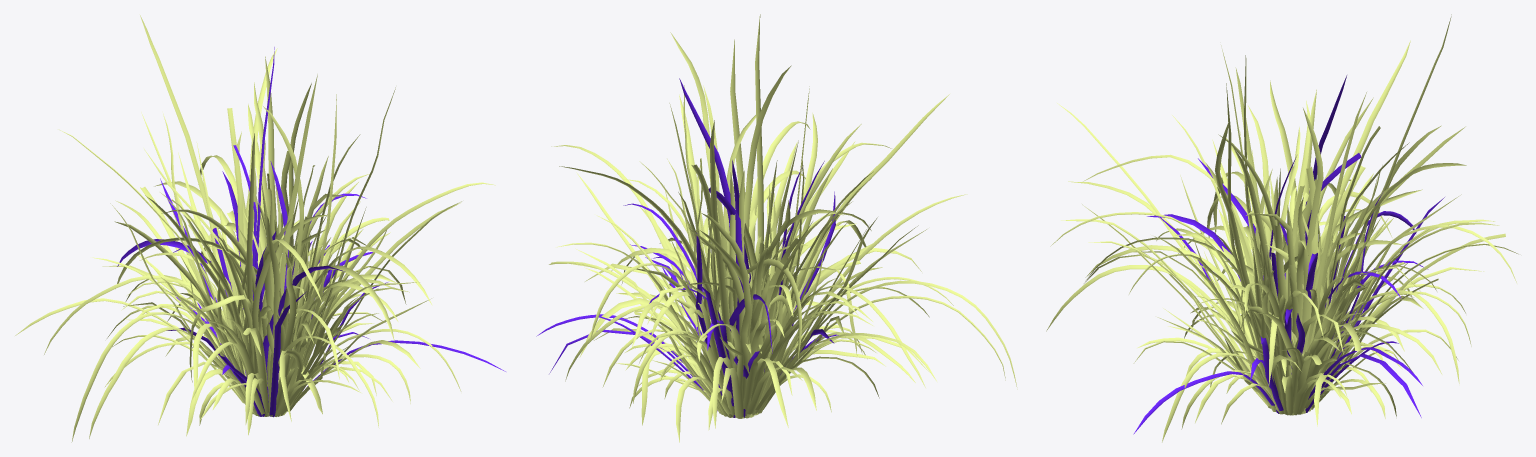
The model's file is Grass_B.FBX.
The picture shows the model from 3 angles, left to right: view 1: azimuth 30°, elevation 25°; view 2: azimuth 150°, elevation 25°; view 3: azimuth 270°, elevation 25°; orthographic projection. The views are drawn at different scales.
Visible parts, largest first — view 1: Geometry_Grass_B; view 2: Geometry_Grass_B; view 3: Geometry_Grass_B.
Boxes of the visible parts, left/top/right/bottom form: Geometry_Grass_B: left=15, top=15, right=505, bottom=442; Geometry_Grass_B: left=536, top=14, right=1017, bottom=442; Geometry_Grass_B: left=1046, top=14, right=1518, bottom=442.
Bounding box in the file's own units: 62.86 × 48.64 × 56.58.
